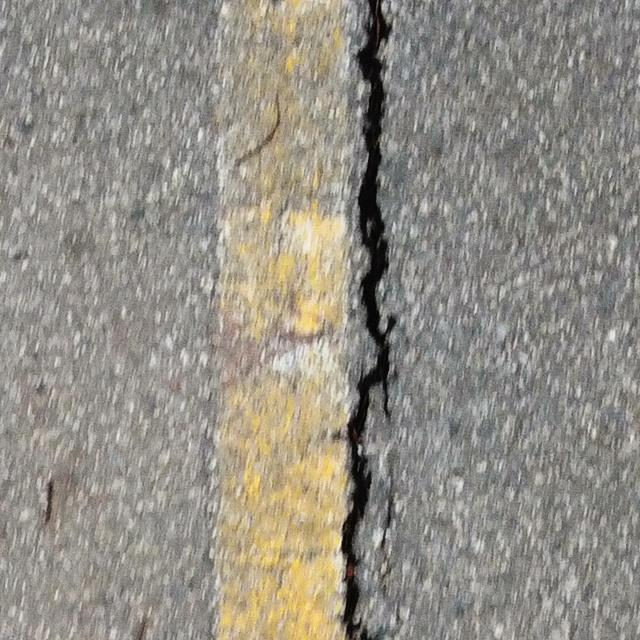LongitudinalCrack: (336, 1, 396, 640)
